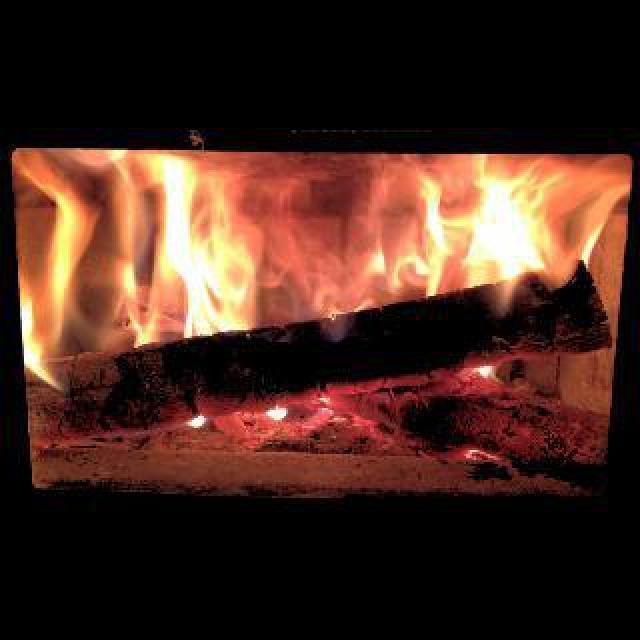Fire: (24, 150, 632, 372)
